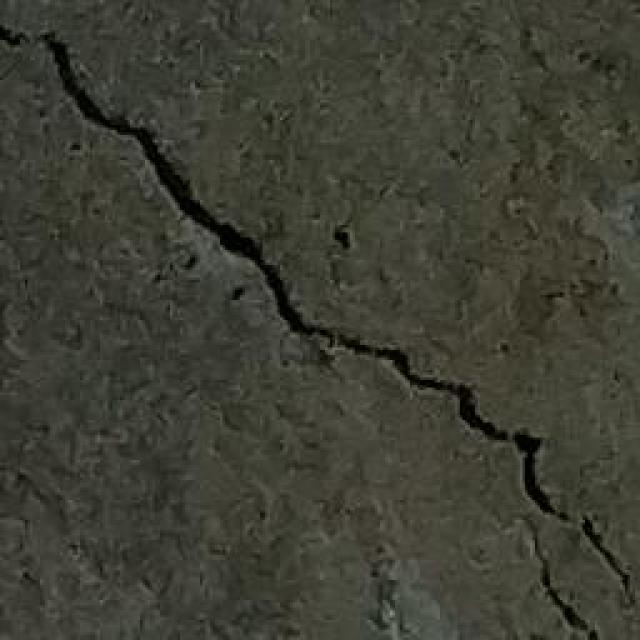Radial: (0, 10, 635, 638)
